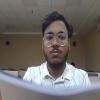notebook: (0, 69, 99, 99)
